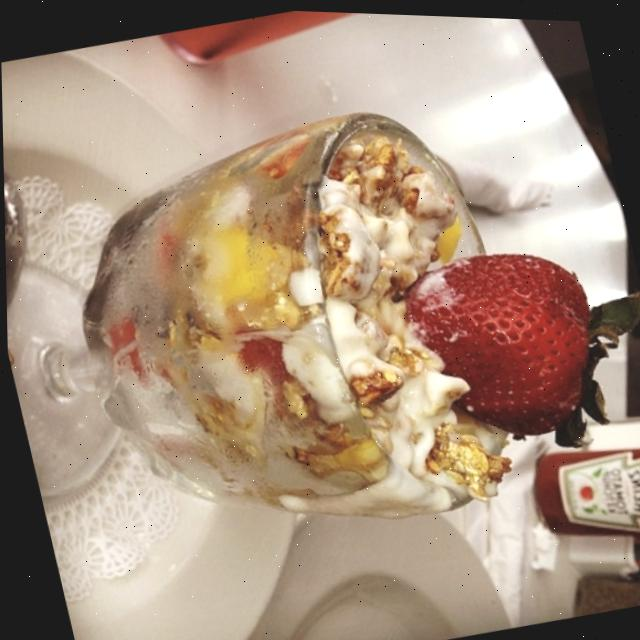蛋糕甜品: (0, 14, 640, 617)
